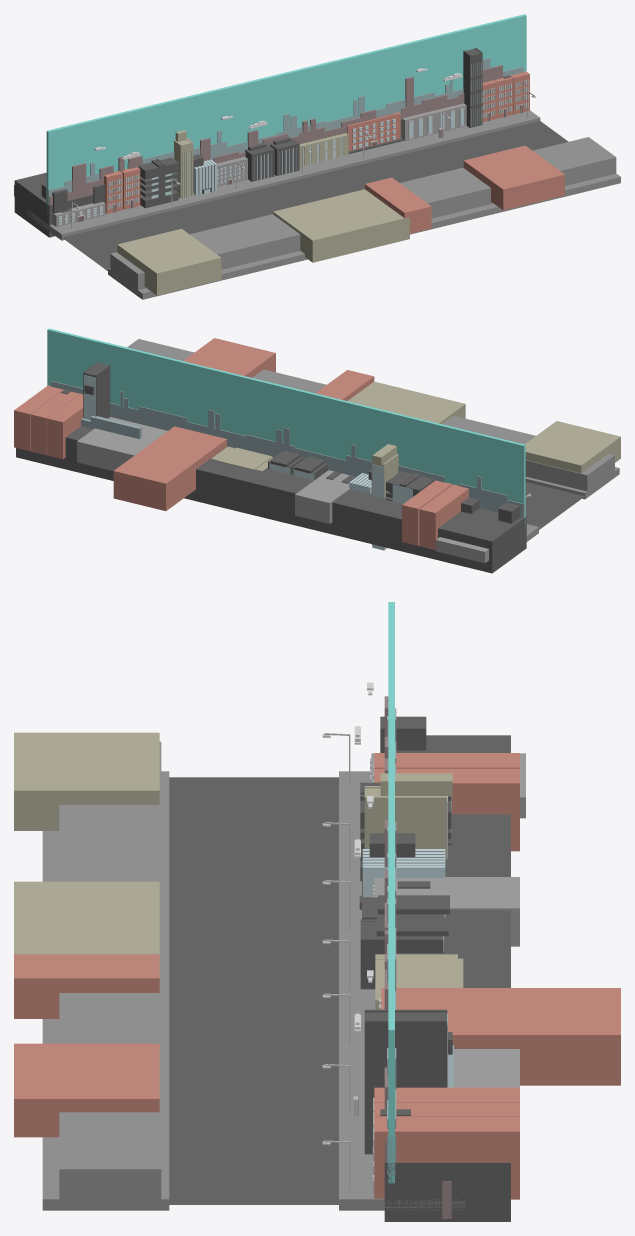
Rendered from cityBackground.fbx.
The picture shows the model from 3 angles, top to bottom: view 1: azimuth 30°, elevation 25°; view 2: azimuth 150°, elevation 25°; view 3: azimuth 270°, elevation 25°; orthographic projection. The views are drawn at different scales.
Parts seen in each view (by area): view 1: polySurface1434; view 2: polySurface1434; view 3: polySurface1434.
Part boxes in pixels (<box>): polySurface1434: <box>14,14,620,299</box>; polySurface1434: <box>14,328,620,573</box>; polySurface1434: <box>14,602,620,1221</box>.
Bounding box in the file's own units: 400 × 99.97 × 240.
